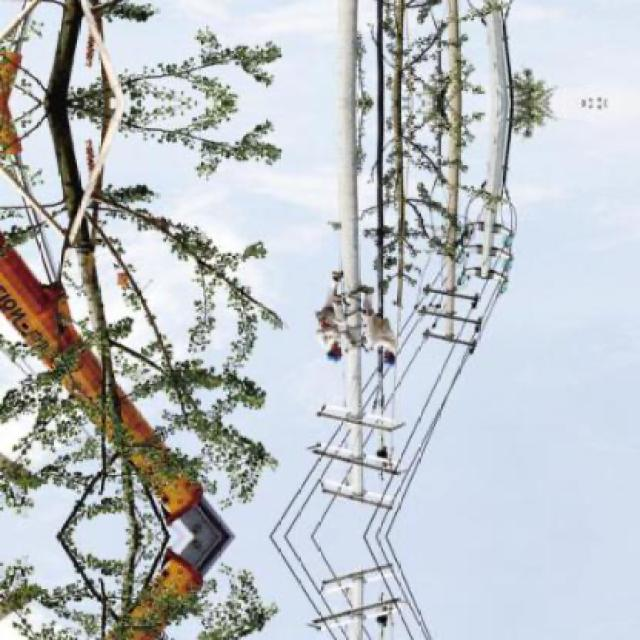con casco: (302, 330, 353, 375), (378, 338, 409, 375)
